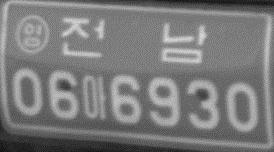0: (224, 81, 259, 133), (10, 67, 44, 118)
3: (185, 77, 221, 131)
6: (47, 69, 80, 123), (110, 74, 143, 125)
9: (147, 76, 181, 127)
아: (81, 74, 108, 121)
영: (14, 14, 50, 55)
전남_D: (60, 15, 207, 65)
